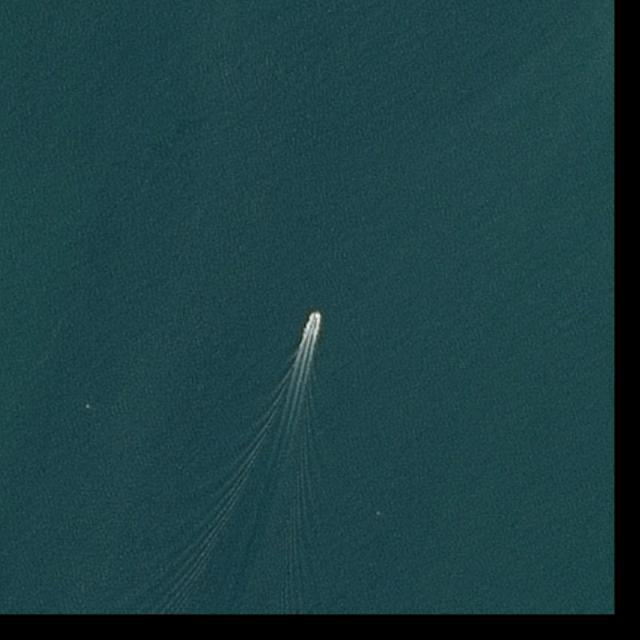ship: (312, 311, 318, 325)
